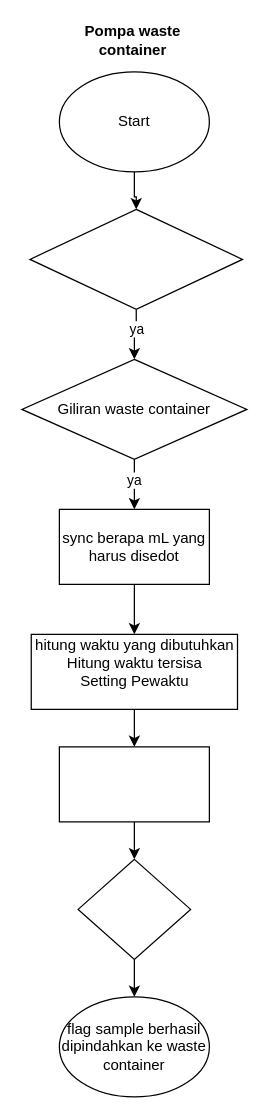
The diagram is 269 pixels wide and 1119 high, and some of its shapes have lost their labels. Each missing label, with the box of its shape:
set PWM (170) Kirim Progress %: (58, 746, 209, 822)
State flushing: (29, 208, 242, 309)
Waktu Habis?: (77, 858, 191, 959)
